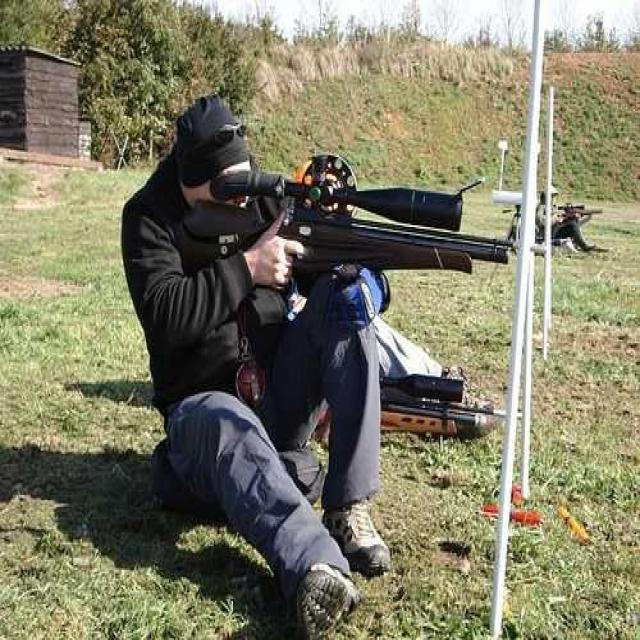heavyweapon: (169, 133, 543, 343)
